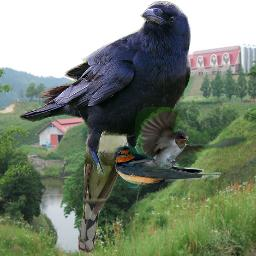Crow: (18, 1, 191, 176)
Cuckoo: (78, 104, 139, 254)
Swallow: (129, 107, 247, 169), (112, 144, 221, 188)
